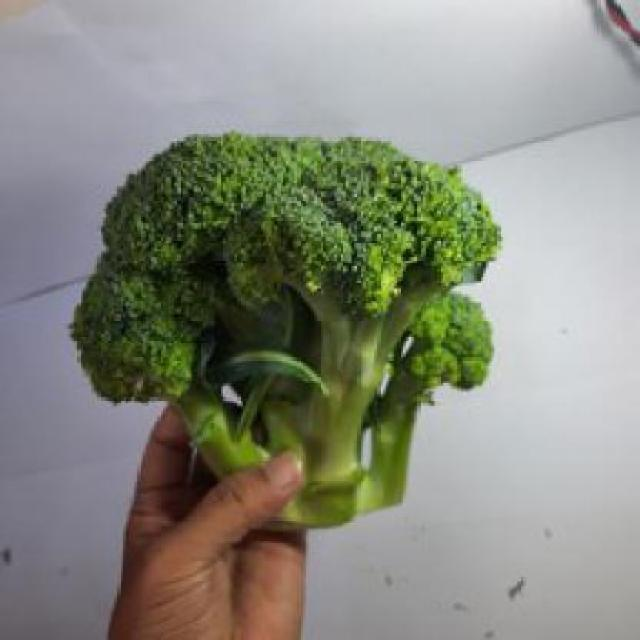broccoli: (76, 142, 509, 515)
